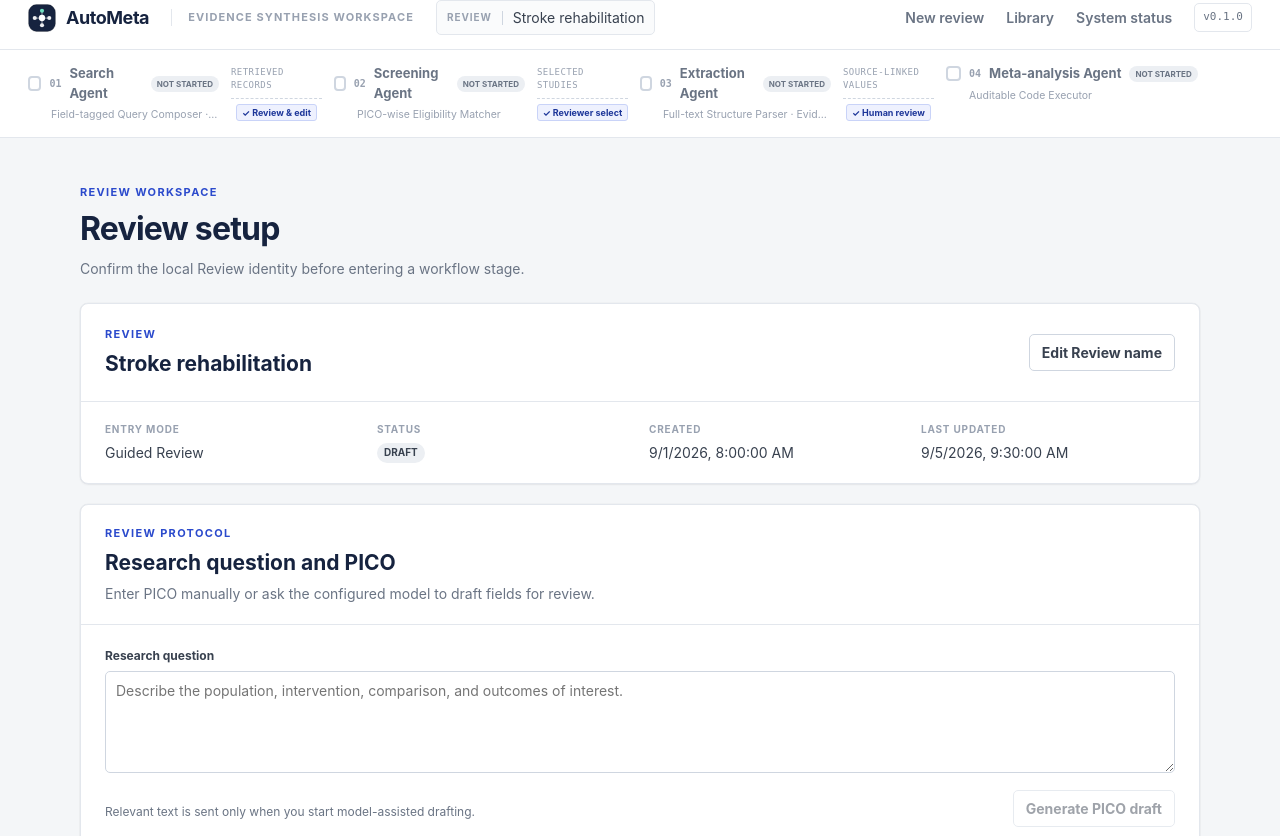
Test case: ReviewSetupPage › autosaves manually entered PICO and approves the saved version
Expected: the heading "Review setup" is shown, [80,209,280,248]
Type "Does rehabilitation improve recovery after stroke?" into the text box labelled "Research question" at (640, 722), box [105,671,1175,773]
(page scrolled)
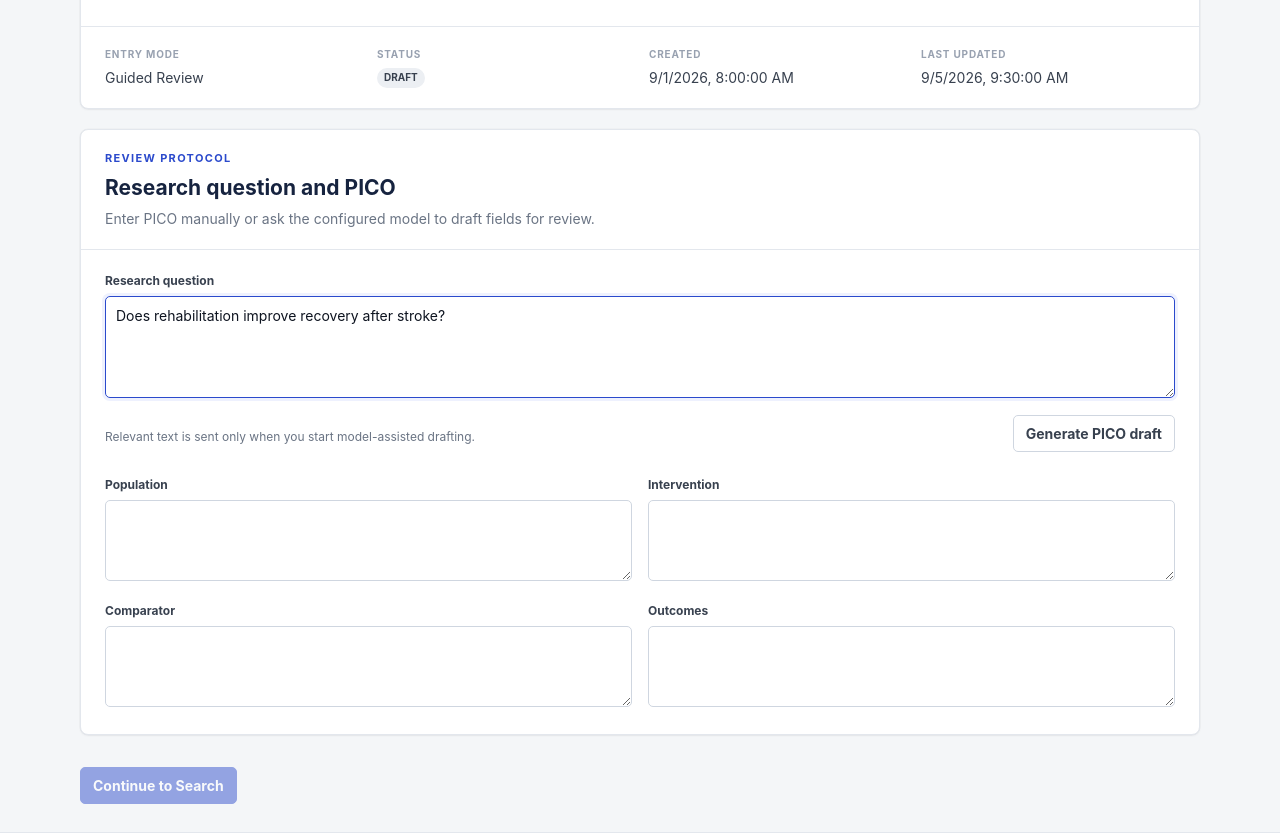
Type "Adults after stroke" into the text box labelled "Population" at (368, 541), box [105,500,632,581]
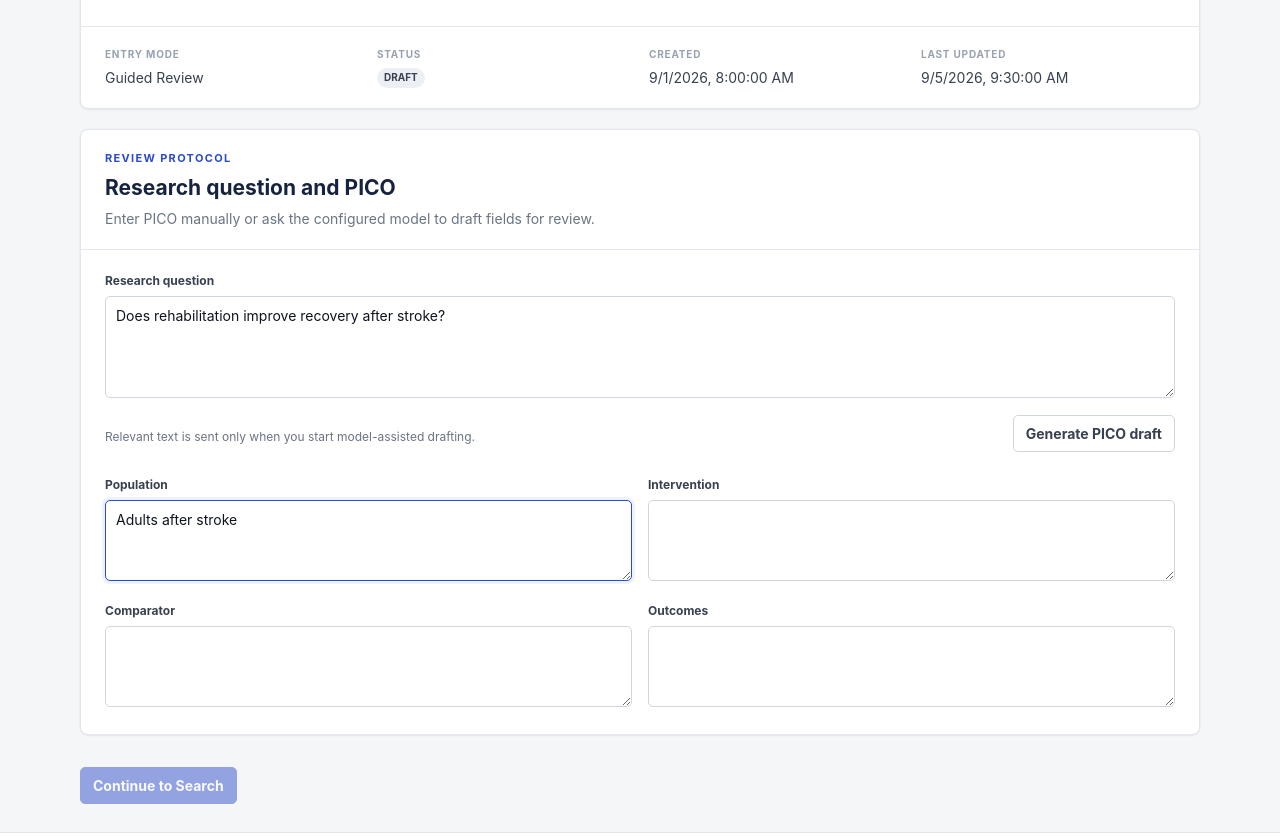
Type "Structured rehabilitation" into the text box labelled "Intervention" at (912, 541), box [648,500,1175,581]
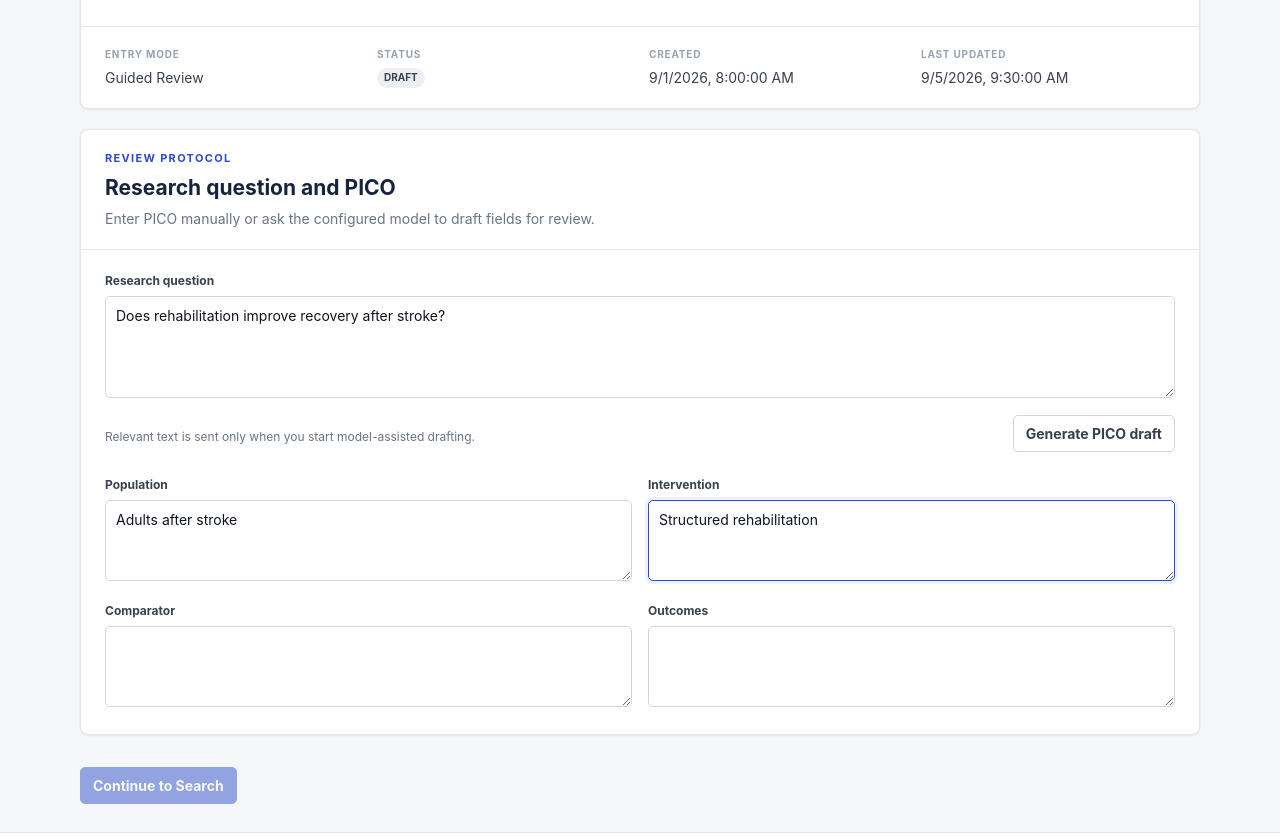
Type "Usual care" into the text box labelled "Comparator" at (368, 667), box [105,626,632,707]
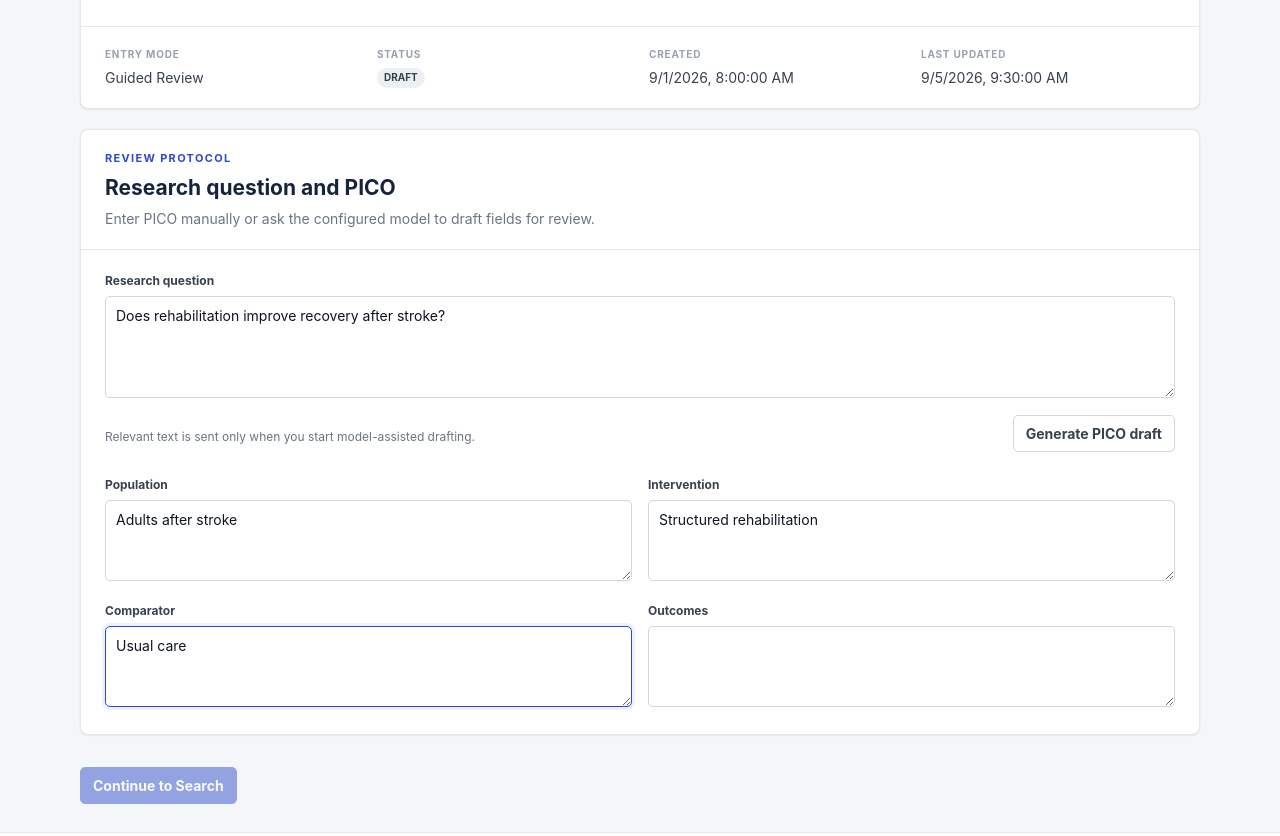
Type "Functional recovery" into the text box labelled "Outcomes" at (912, 667), box [648,626,1175,707]
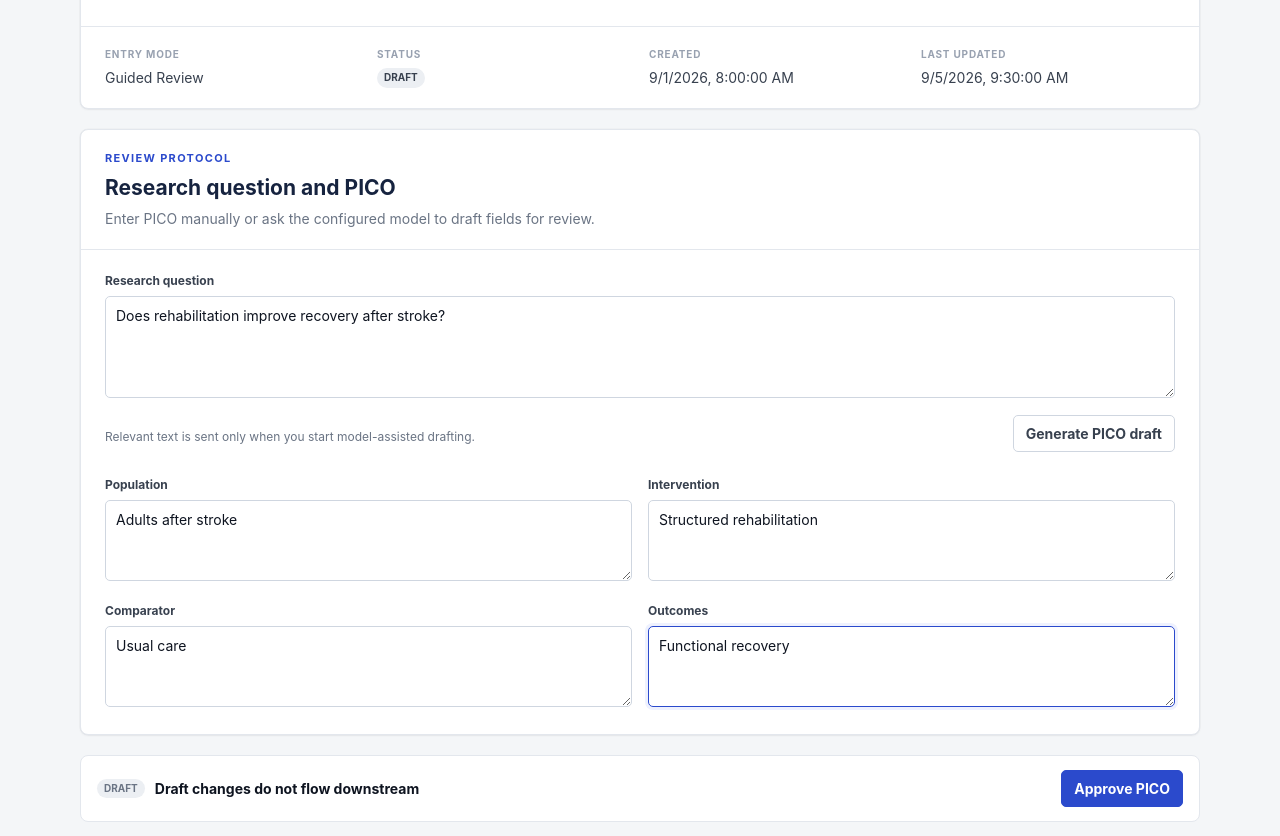
Click the button "Approve PICO" at (1122, 789), box [1061,770,1183,807]
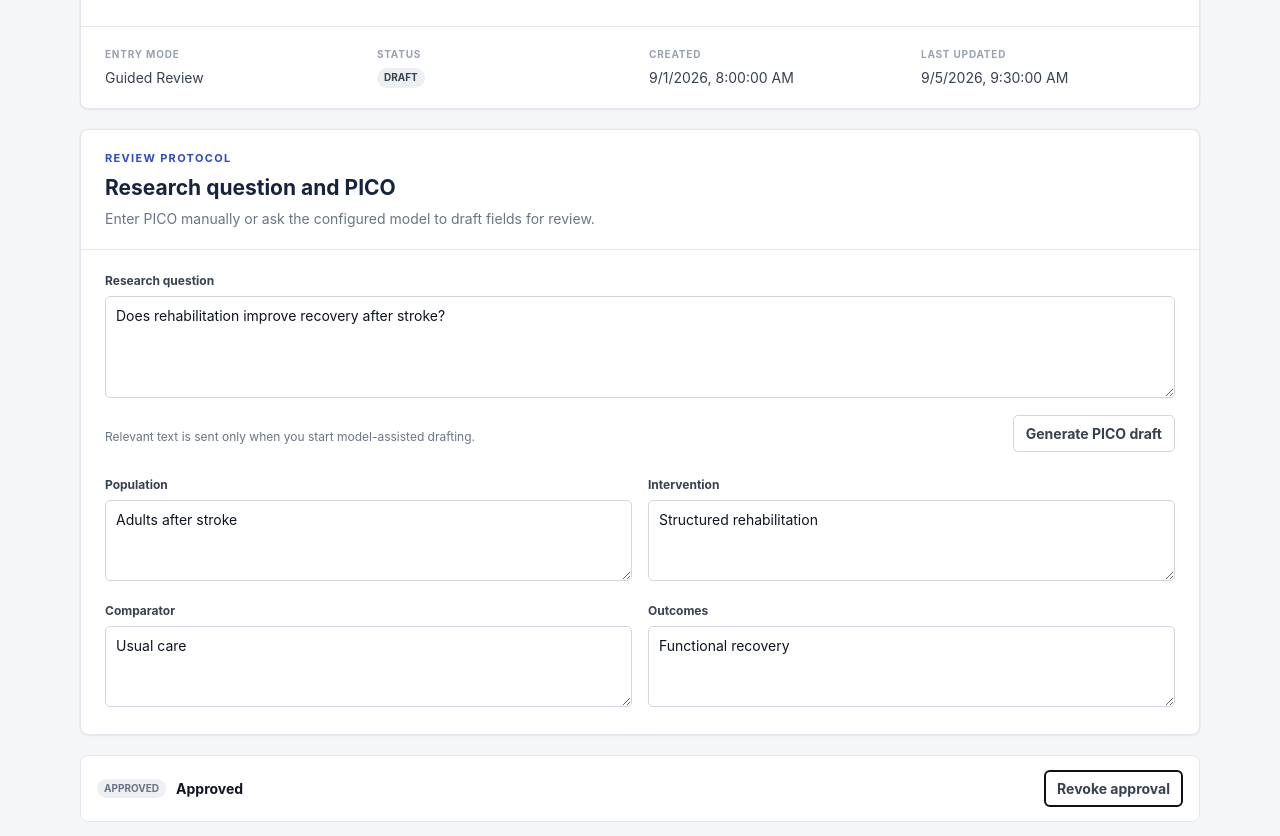
Expected: the text "Approved" is shown, [176,778,243,799]
